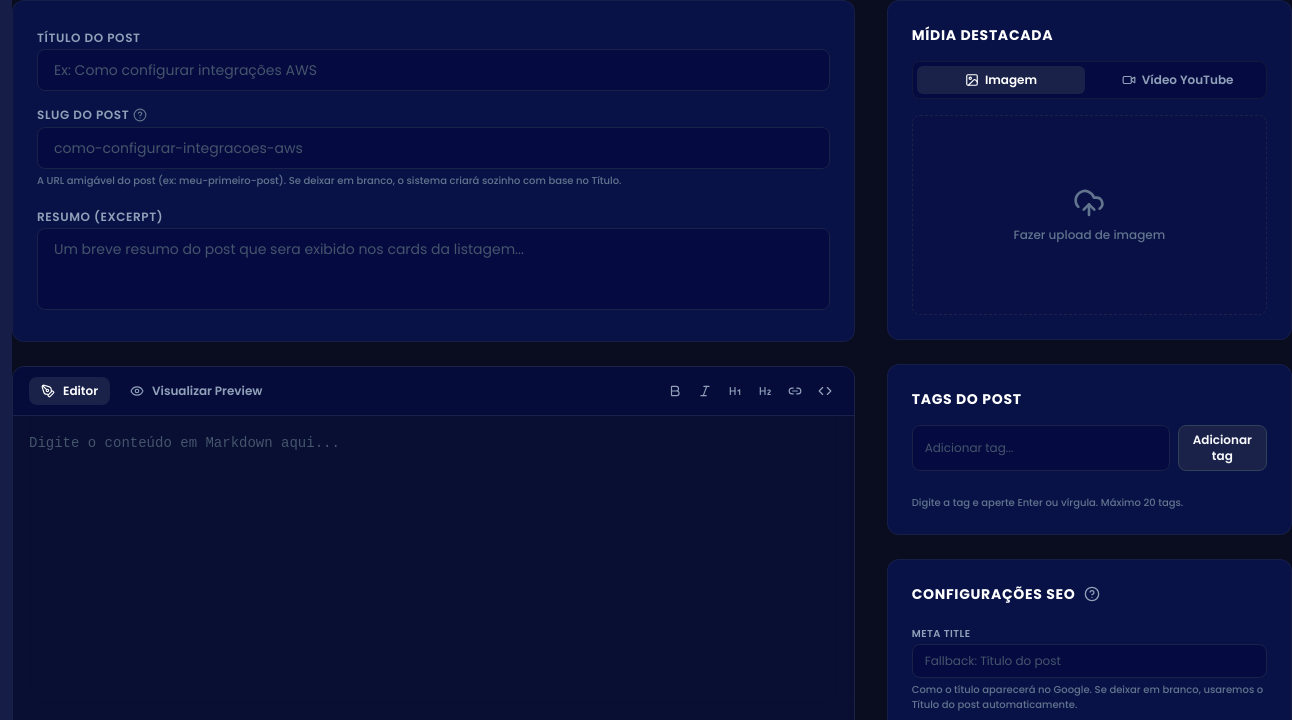
Test: PostForm › auto-generates slug from title
The image size is (1292, 720).
Type "Minha Incrível Jornada" into the field labelled "Título do Post" at (433, 70), box [37, 49, 830, 91]
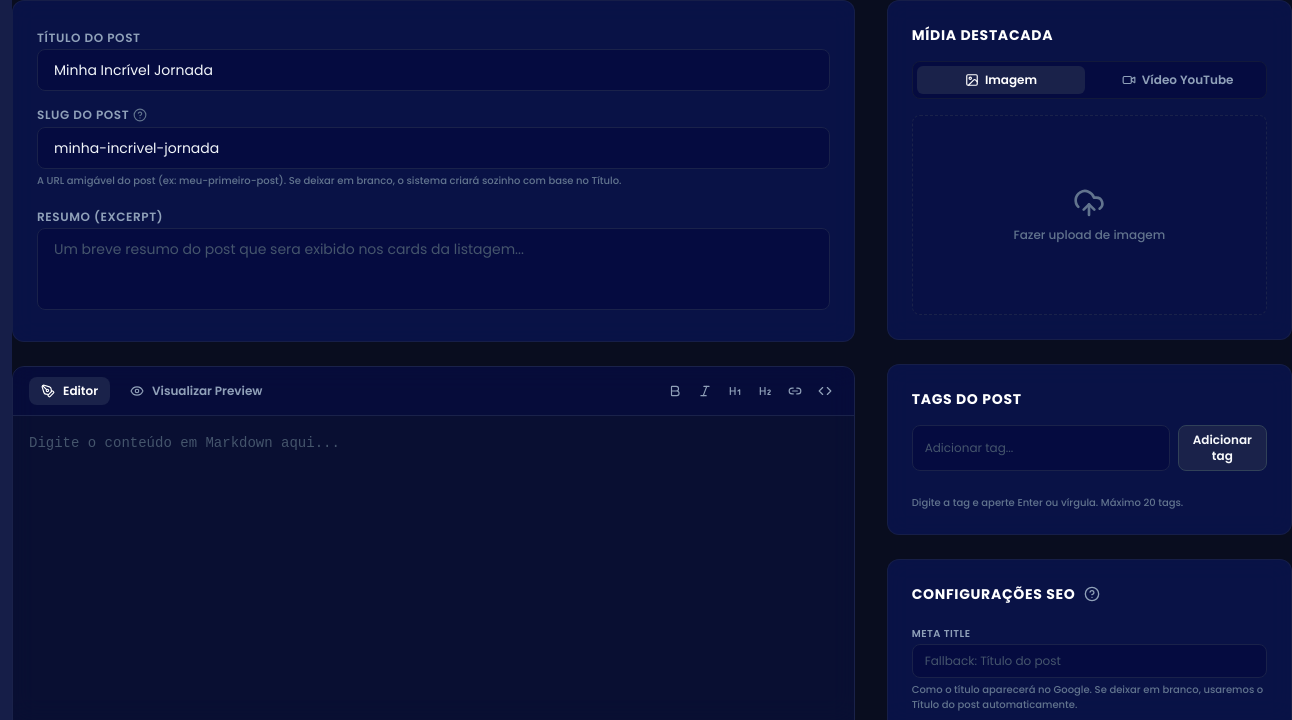
Result: the field labelled "Slug do Post" holds "minha-incrivel-jornada" at [37, 127, 830, 169]
